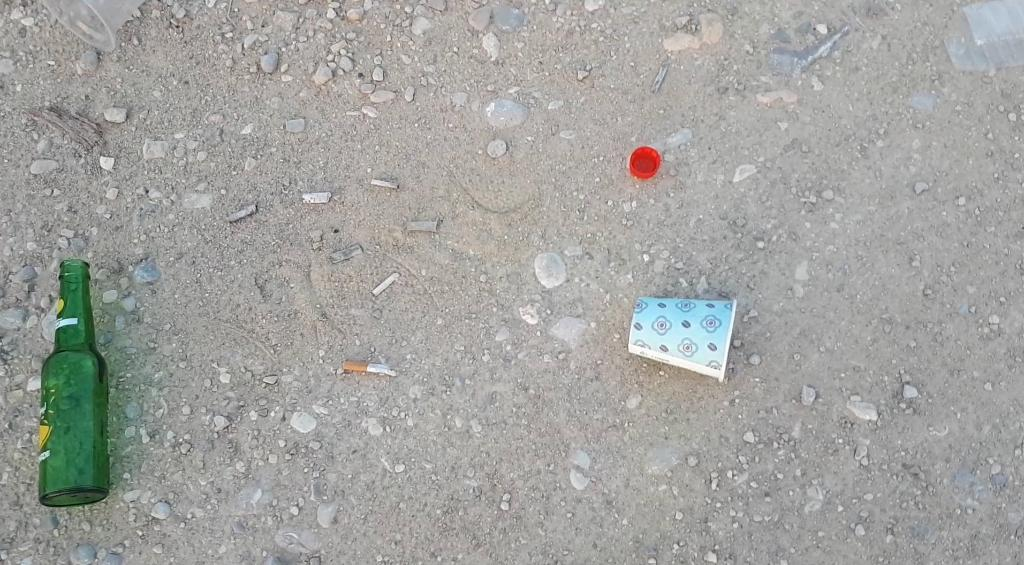garbage: (21, 237, 124, 509), (37, 259, 110, 508), (616, 279, 759, 394), (943, 0, 1023, 71)
